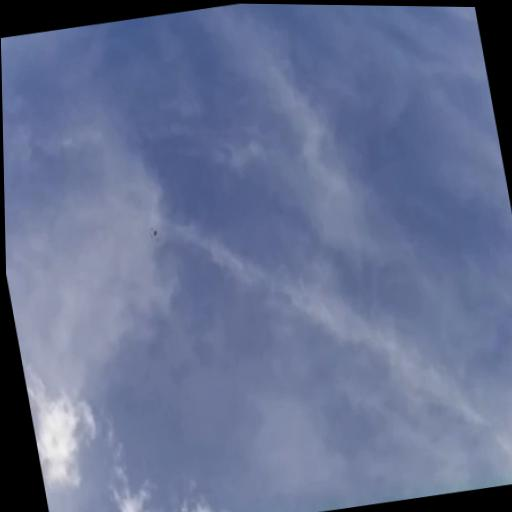drones: (143, 221, 163, 244)
